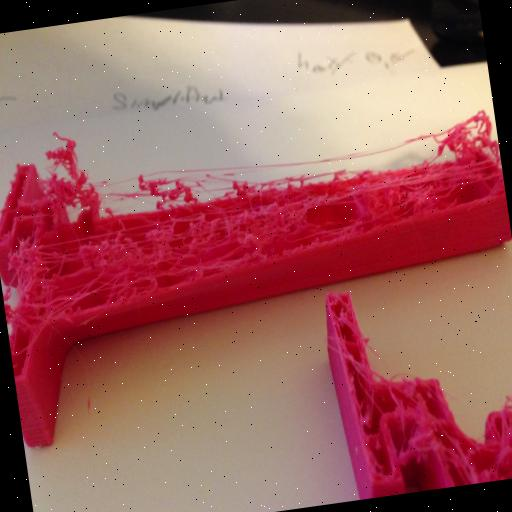stringing: (45, 72, 501, 258), (369, 358, 445, 472), (4, 228, 65, 311), (477, 390, 512, 480)
